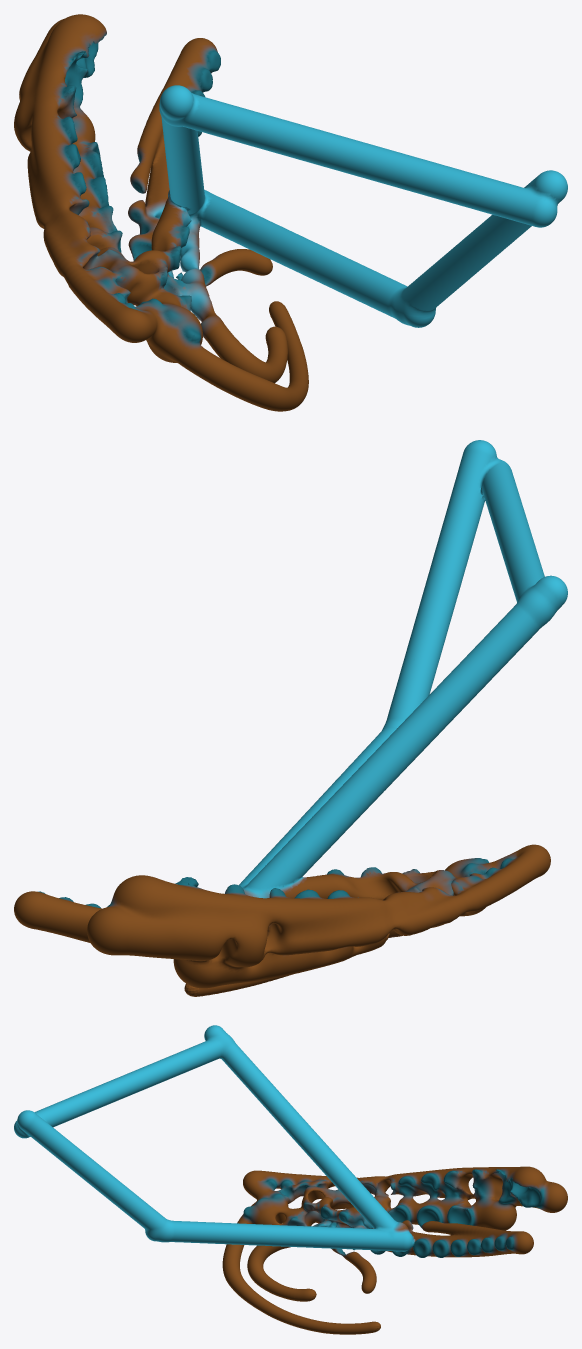
The picture shows the model from 3 angles, top to bottom: view 1: azimuth 30°, elevation 25°; view 2: azimuth 150°, elevation 25°; view 3: azimuth 270°, elevation 25°; orthographic projection. The views are drawn at different scales.
Parts seen in each view (by area): view 1: 377d89d; view 2: 377d89d; view 3: 377d89d.
Boxes of the visible parts, bbox=[...] form: 377d89d: bbox=[14, 14, 567, 411]; 377d89d: bbox=[14, 440, 567, 996]; 377d89d: bbox=[14, 1025, 567, 1334].
Size of the model in its own units: 0.4334 by 0.5136 by 1.06.
